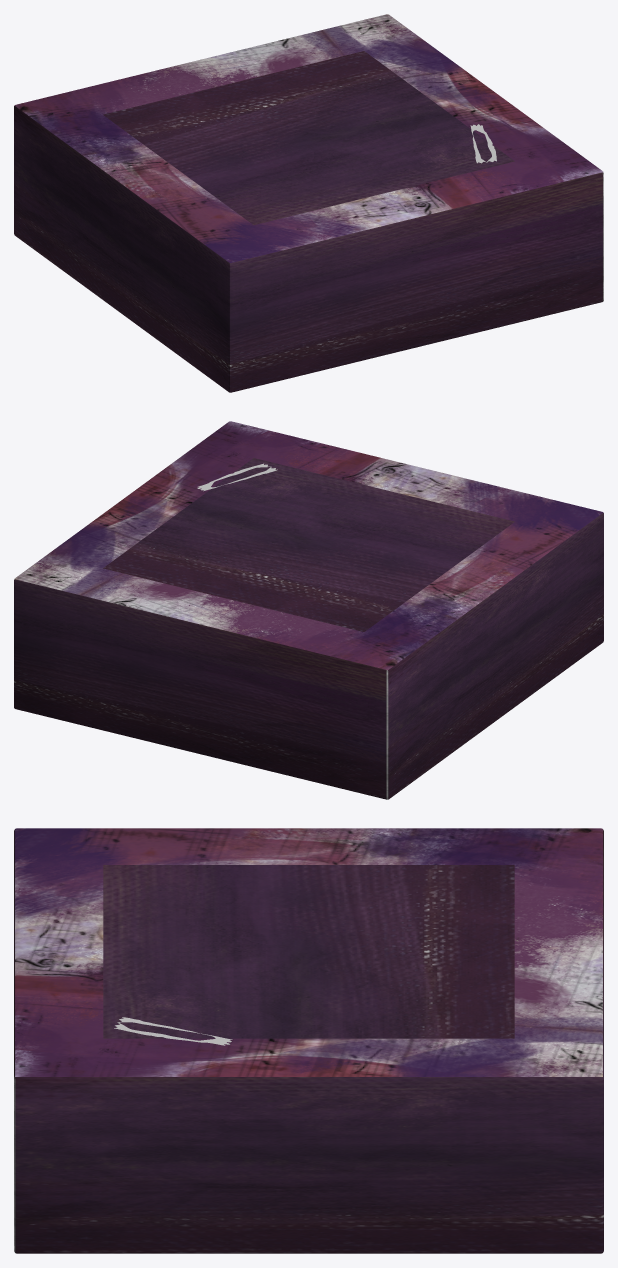
Rendered from MANOR_GROUND_3_001.obj.
The picture shows the model from 3 angles, top to bottom: view 1: azimuth 30°, elevation 25°; view 2: azimuth 150°, elevation 25°; view 3: azimuth 270°, elevation 25°; orthographic projection. The views are drawn at different scales.
Parts seen in each view (by area): view 1: MANOR_GROUND_3_001; view 2: MANOR_GROUND_3_001; view 3: MANOR_GROUND_3_001.
Part boxes in pixels (x1,y1,x2,y2): MANOR_GROUND_3_001: (14,14,603,392); MANOR_GROUND_3_001: (14,421,603,799); MANOR_GROUND_3_001: (14,828,603,1253).
Size of the model in its own units: 3 by 1.01 by 3.
